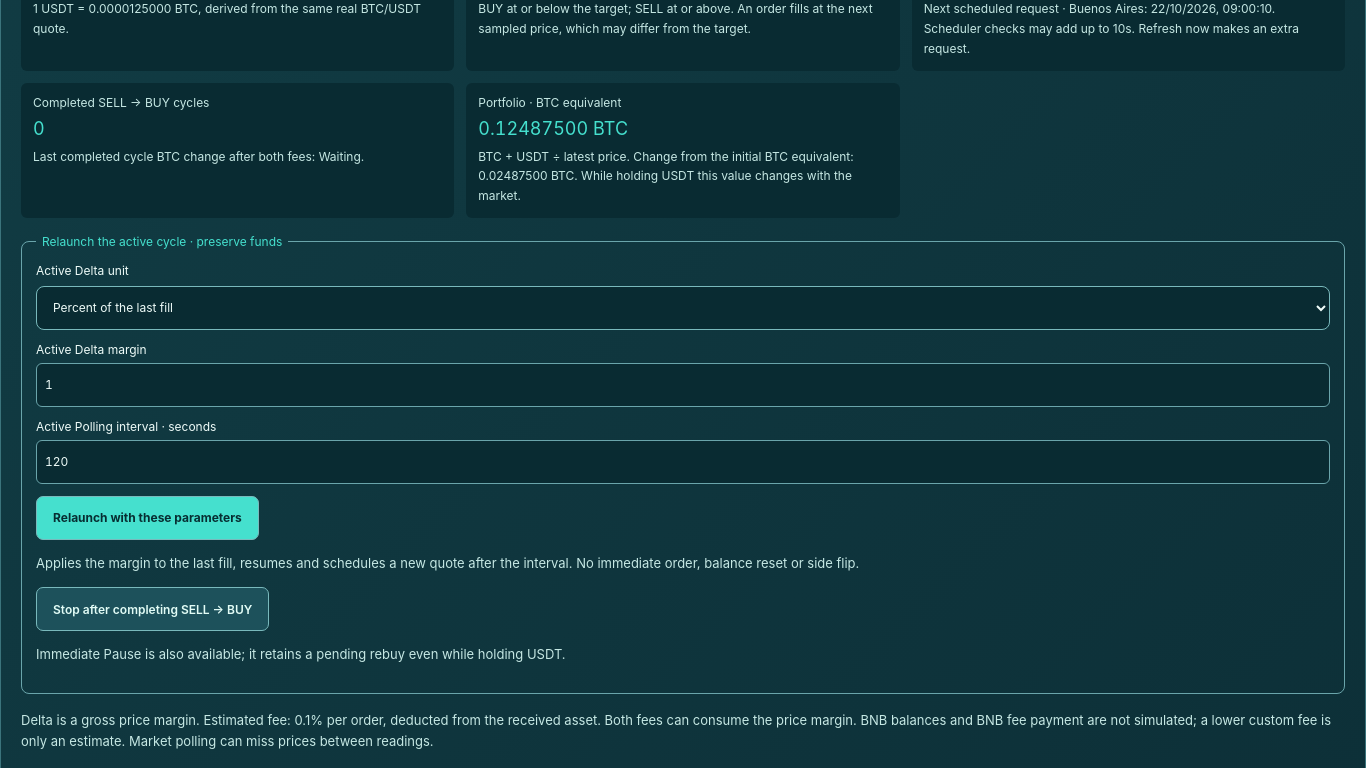
Test case: validates live input and supports deferred stop and cancellation
Later steps or results of the test are not shown.
(page scrolled)
Replace the text in the number field labelled "Active Delta margin" with "100": coordinates (683, 385) [36, 363, 1330, 407]
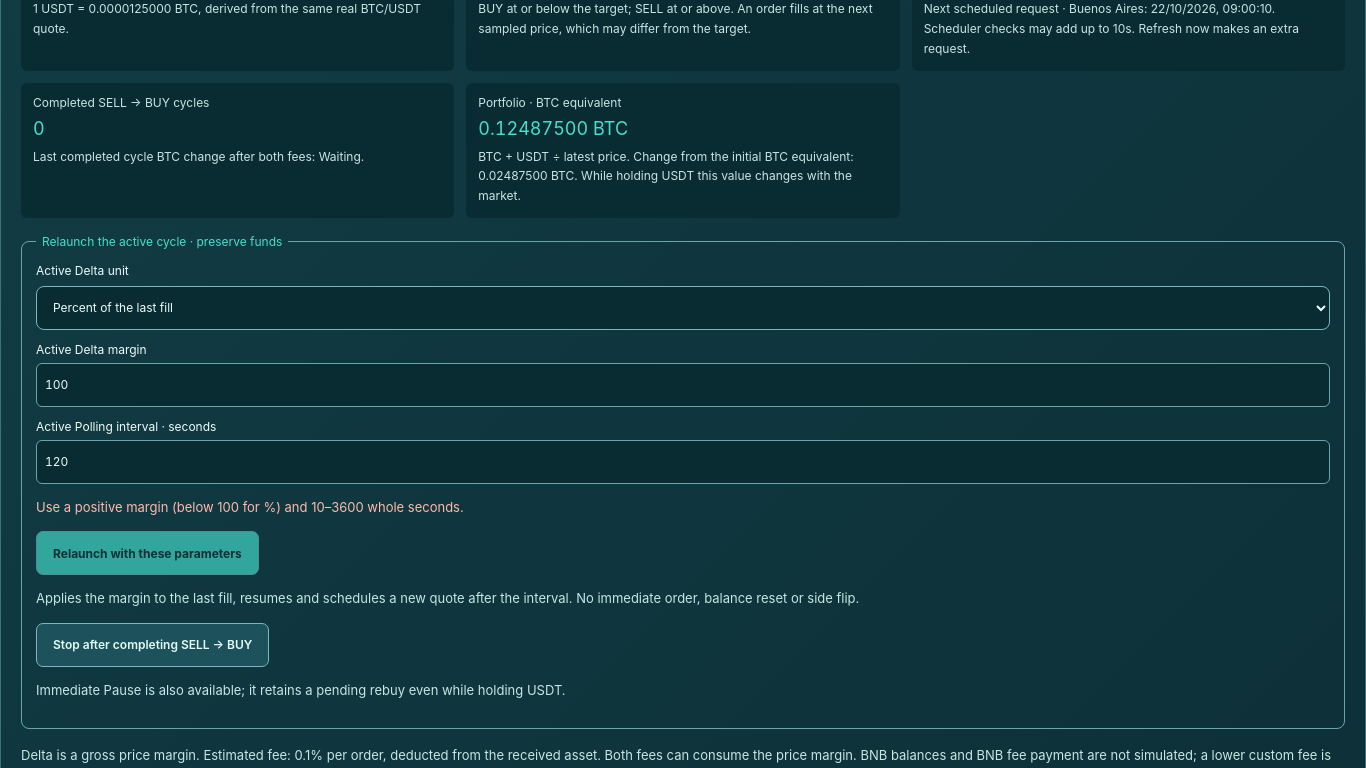
Expected: the button "Relaunch with these parameters" is disabled, [36, 531, 259, 575]
